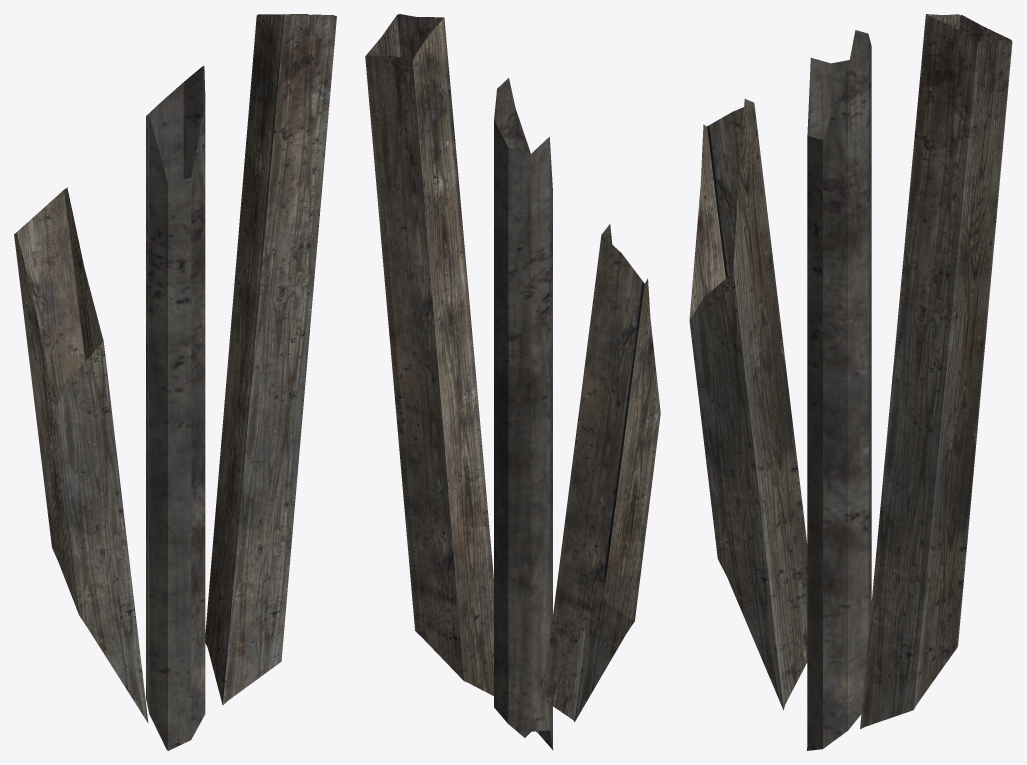
Rendered from Wagon3_6.fbx.
3 renders of one model, left to right at view 1: azimuth 30°, elevation 25°; view 2: azimuth 150°, elevation 25°; view 3: azimuth 330°, elevation 25°, orthographic. The views are drawn at different scales.
Parts seen in each view (by area): view 1: SM_Wagon03_DM.006; view 2: SM_Wagon03_DM.006; view 3: SM_Wagon03_DM.006.
Boxes of the visible parts, <box> form: SM_Wagon03_DM.006: <box>14,14,336,750</box>; SM_Wagon03_DM.006: <box>365,14,660,750</box>; SM_Wagon03_DM.006: <box>689,14,1012,750</box>.
Size of the model in its own units: 4181 by 9809 by 1003.
